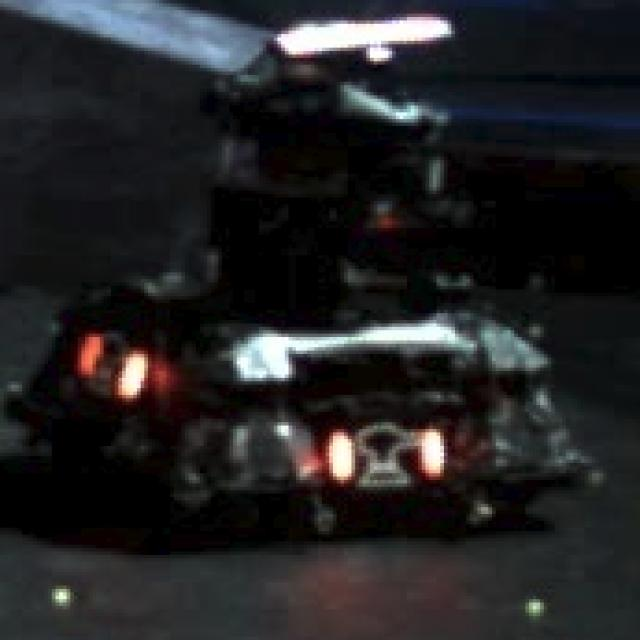Rs: (329, 425, 440, 487), (78, 331, 144, 398)
